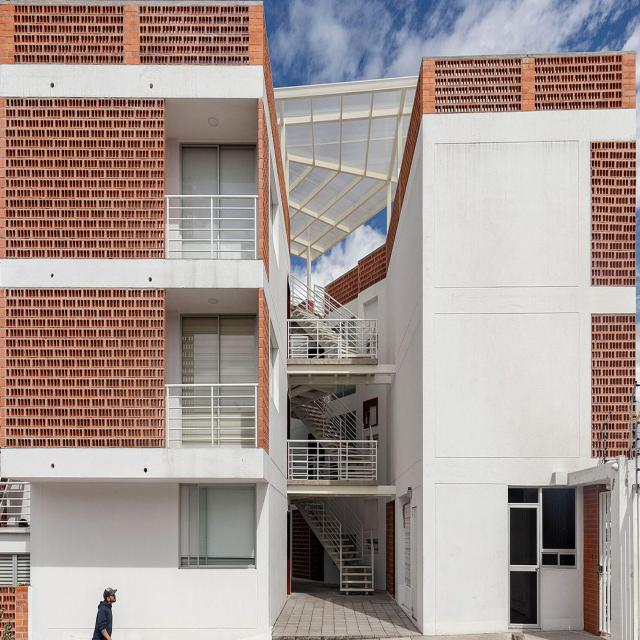door: (507, 487, 543, 631)
railing: (165, 383, 260, 446), (164, 196, 258, 259), (287, 439, 377, 483), (287, 318, 377, 362)
window: (508, 485, 578, 631), (182, 317, 256, 386), (180, 141, 260, 199)
